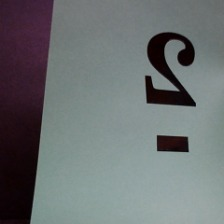green2: (139, 29, 203, 163)
